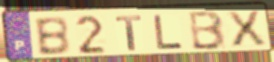2: (74, 14, 110, 56)
B: (188, 9, 228, 52), (32, 15, 72, 57)
L: (152, 14, 186, 51)
T: (114, 14, 144, 52)
X: (224, 10, 268, 49)
